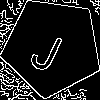J: (27, 22, 70, 75)
